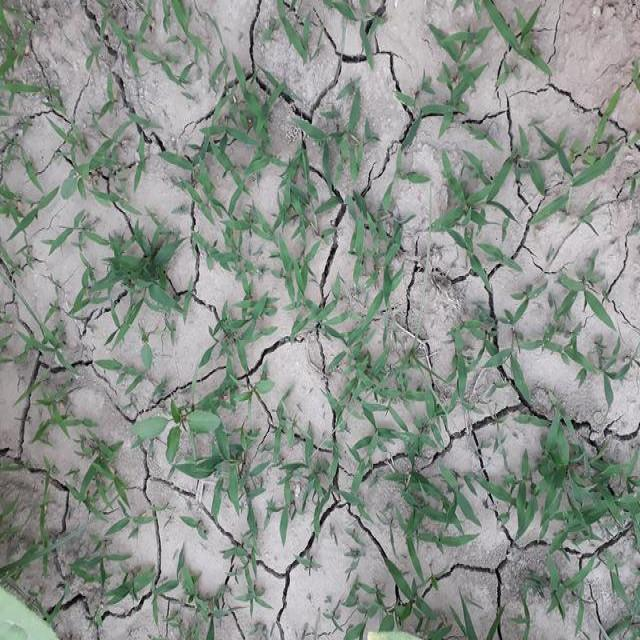weed: (114, 83, 473, 556), (504, 386, 639, 640)
